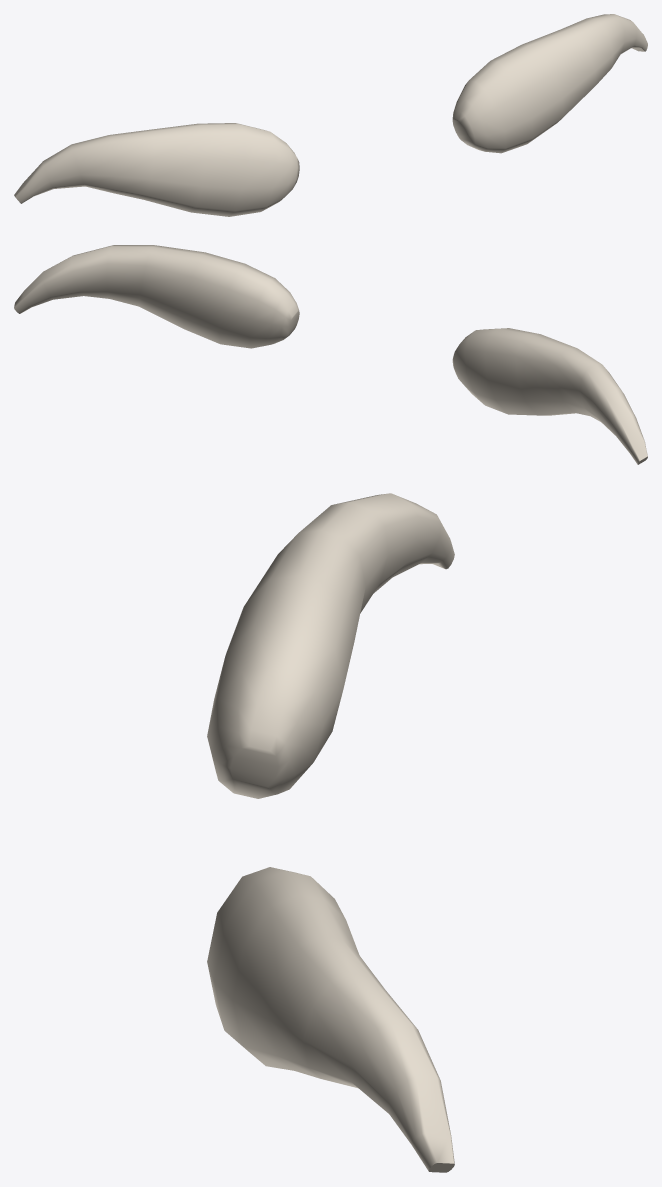
The model's file is Eyebrows_24_07.fbx.
3 views of the same model, one above another, from view 1: azimuth 30°, elevation 25°; view 2: azimuth 150°, elevation 25°; view 3: azimuth 270°, elevation 25° (orthographic). The views are drawn at different scales.
Parts seen in each view (by area): view 1: Eyebrows_24_07; view 2: Eyebrows_24_07; view 3: Eyebrows_24_07.
Boxes of the visible parts, x1,y1,x2,y2 form: Eyebrows_24_07: [14, 14, 647, 216]; Eyebrows_24_07: [14, 245, 647, 464]; Eyebrows_24_07: [207, 493, 454, 1172].
Size of the model in its own units: 19.24 by 2.6 by 3.26.
